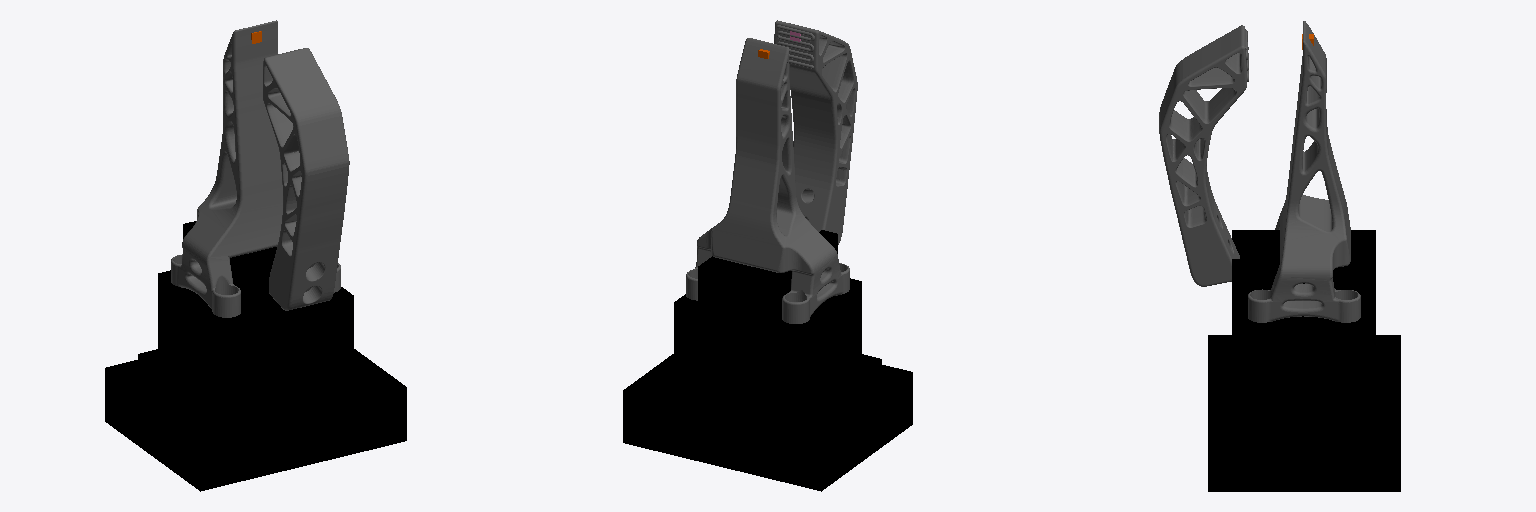
robot.urdf — iiwa14:
<?xml version="1.0" encoding="utf-8"?>
<!-- =================================================================================== -->
<!-- |    This document was autogenerated by xacro from src/iiwa_description/urdf/iiwa14.urdf.xacro | -->
<!-- |    EDITING THIS FILE BY HAND IS NOT RECOMMENDED                                 | -->
<!-- =================================================================================== -->
<robot name="iiwa14">
  <material name="Black">
    <color rgba="0.0 0.0 0.0 1.0"/>
  </material>
  <material name="Blue">
    <color rgba="0.0 0.0 0.8 1.0"/>
  </material>
  <material name="Green">
    <color rgba="0.0 0.8 0.0 1.0"/>
  </material>
  <material name="Grey">
    <color rgba="0.4 0.4 0.4 1.0"/>
  </material>
  <material name="Orange">
    <color rgba="1.0 0.423529411765 0.0392156862745 1.0"/>
  </material>
  <material name="Brown">
    <color rgba="0.870588235294 0.811764705882 0.764705882353 1.0"/>
  </material>
  <material name="Red">
    <color rgba="0.8 0.0 0.0 1.0"/>
  </material>
  <material name="White">
    <color rgba="1.0 1.0 1.0 1.0"/>
  </material>
  <!-- Fix to world just for testing -->
  <link name="world"/>
  <!--joint between {parent} and link_0-->
  <joint name="world_iiwa_joint" type="fixed">
    <origin rpy="0 0 0" xyz="0 0 0"/>
    <parent link="world"/>
    <child link="iiwa_link_0"/>
  </joint>
  <link name="iiwa_link_0">
    <inertial>
      <origin rpy="0 0 0" xyz="-0.1 0 0.07"/>
      <mass value="5"/>
      <inertia ixx="0.05" ixy="0" ixz="0" iyy="0.06" iyz="0" izz="0.03"/>
    </inertial>
    <visual>
      <origin rpy="0 0 0" xyz="0 0 0"/>
      <geometry>
        <mesh filename="package://iiwa_description/meshes/iiwa14/visual/link_0.stl"/>
      </geometry>
      <material name="Grey"/>
    </visual>
    <collision>
      <origin rpy="0 0 0" xyz="0 0 0"/>
      <geometry>
        <mesh filename="package://iiwa_description/meshes/iiwa14/collision/link_0.stl"/>
      </geometry>
      <material name="Grey"/>
    </collision>
    <self_collision_checking>
      <origin rpy="0 0 0" xyz="0 0 0"/>
      <geometry>
        <capsule length="0.25" radius="0.15"/>
      </geometry>
    </self_collision_checking>
  </link>
  <!-- joint between link_0 and link_1 -->
  <joint name="iiwa_joint_1" type="revolute">
    <parent link="iiwa_link_0"/>
    <child link="iiwa_link_1"/>
    <origin rpy="0 0 0" xyz="0 0 0.1575"/>
    <axis xyz="0 0 1"/>
    <limit effort="300" lower="-2.96705972839" upper="2.96705972839" velocity="10"/>
    <safety_controller k_position="100" k_velocity="2" soft_lower_limit="-2.93215314335" soft_upper_limit="2.93215314335"/>
    <dynamics damping="0.5"/>
  </joint>
  <link name="iiwa_link_1">
    <inertial>
      <origin rpy="0 0 0" xyz="0 -0.03 0.12"/>
      <mass value="4"/>
      <inertia ixx="0.1" ixy="0" ixz="0" iyy="0.09" iyz="0" izz="0.02"/>
    </inertial>
    <visual>
      <origin rpy="0 0 0" xyz="0 0 0"/>
      <geometry>
        <mesh filename="package://iiwa_description/meshes/iiwa14/visual/link_1.stl"/>
      </geometry>
      <material name="Orange"/>
    </visual>
    <collision>
      <origin rpy="0 0 0" xyz="0 0 0"/>
      <geometry>
        <mesh filename="package://iiwa_description/meshes/iiwa14/collision/link_1.stl"/>
      </geometry>
      <material name="Orange"/>
    </collision>
  </link>
  <!-- joint between link_1 and link_2 -->
  <joint name="iiwa_joint_2" type="revolute">
    <parent link="iiwa_link_1"/>
    <child link="iiwa_link_2"/>
    <origin rpy="1.57079632679   0 3.14159265359" xyz="0 0 0.2025"/>
    <axis xyz="0 0 1"/>
    <limit effort="300" lower="-2.09439510239" upper="2.09439510239" velocity="10"/>
    <safety_controller k_position="100" k_velocity="2" soft_lower_limit="-2.05948851735" soft_upper_limit="2.05948851735"/>
    <dynamics damping="0.5"/>
  </joint>
  <link name="iiwa_link_2">
    <inertial>
      <origin rpy="0 0 0" xyz="0.0003 0.059 0.042"/>
      <mass value="4"/>
      <inertia ixx="0.05" ixy="0" ixz="0" iyy="0.018" iyz="0" izz="0.044"/>
    </inertial>
    <visual>
      <origin rpy="0 0 0" xyz="0 0 0"/>
      <geometry>
        <mesh filename="package://iiwa_description/meshes/iiwa14/visual/link_2.stl"/>
      </geometry>
      <material name="Orange"/>
    </visual>
    <collision>
      <origin rpy="0 0 0" xyz="0 0 0"/>
      <geometry>
        <mesh filename="package://iiwa_description/meshes/iiwa14/collision/link_2.stl"/>
      </geometry>
      <material name="Orange"/>
    </collision>
  </link>
  <!-- joint between link_2 and link_3 -->
  <joint name="iiwa_joint_3" type="revolute">
    <parent link="iiwa_link_2"/>
    <child link="iiwa_link_3"/>
    <origin rpy="1.57079632679 0 3.14159265359" xyz="0 0.2045 0"/>
    <axis xyz="0 0 1"/>
    <limit effort="300" lower="-2.96705972839" upper="2.96705972839" velocity="10"/>
    <safety_controller k_position="100" k_velocity="2" soft_lower_limit="-2.93215314335" soft_upper_limit="2.93215314335"/>
    <dynamics damping="0.5"/>
  </joint>
  <link name="iiwa_link_3">
    <inertial>
      <origin rpy="0 0 0" xyz="0 0.03 0.13"/>
      <mass value="3"/>
      <inertia ixx="0.08" ixy="0" ixz="0" iyy="0.075" iyz="0" izz="0.01"/>
    </inertial>
    <visual>
      <origin rpy="0 0 0" xyz="0 0 0"/>
      <geometry>
        <mesh filename="package://iiwa_description/meshes/iiwa14/visual/link_3.stl"/>
      </geometry>
      <material name="Orange"/>
    </visual>
    <collision>
      <origin rpy="0 0 0" xyz="0 0 0"/>
      <geometry>
        <mesh filename="package://iiwa_description/meshes/iiwa14/collision/link_3.stl"/>
      </geometry>
      <material name="Orange"/>
    </collision>
  </link>
  <!-- joint between link_3 and link_4 -->
  <joint name="iiwa_joint_4" type="revolute">
    <parent link="iiwa_link_3"/>
    <child link="iiwa_link_4"/>
    <origin rpy="1.57079632679 0 0" xyz="0 0 0.2155"/>
    <axis xyz="0 0 1"/>
    <limit effort="300" lower="-2.09439510239" upper="2.09439510239" velocity="10"/>
    <safety_controller k_position="100" k_velocity="2" soft_lower_limit="-2.05948851735" soft_upper_limit="2.05948851735"/>
    <dynamics damping="0.5"/>
  </joint>
  <link name="iiwa_link_4">
    <inertial>
      <origin rpy="0 0 0" xyz="0 0.067 0.034"/>
      <mass value="2.7"/>
      <inertia ixx="0.03" ixy="0" ixz="0" iyy="0.01" iyz="0" izz="0.029"/>
    </inertial>
    <visual>
      <origin rpy="0 0 0" xyz="0 0 0"/>
      <geometry>
        <mesh filename="package://iiwa_description/meshes/iiwa14/visual/link_4.stl"/>
      </geometry>
      <material name="Orange"/>
    </visual>
    <collision>
      <origin rpy="0 0 0" xyz="0 0 0"/>
      <geometry>
        <mesh filename="package://iiwa_description/meshes/iiwa14/collision/link_4.stl"/>
      </geometry>
      <material name="Orange"/>
    </collision>
  </link>
  <!-- joint between link_4 and link_5 -->
  <joint name="iiwa_joint_5" type="revolute">
    <parent link="iiwa_link_4"/>
    <child link="iiwa_link_5"/>
    <origin rpy="-1.57079632679 3.14159265359 0" xyz="0 0.1845 0"/>
    <axis xyz="0 0 1"/>
    <limit effort="300" lower="-2.96705972839" upper="2.96705972839" velocity="10"/>
    <safety_controller k_position="100" k_velocity="2" soft_lower_limit="-2.93215314335" soft_upper_limit="2.93215314335"/>
    <dynamics damping="0.5"/>
  </joint>
  <link name="iiwa_link_5">
    <inertial>
      <origin rpy="0 0 0" xyz="0.0001 0.021 0.076"/>
      <mass value="1.7"/>
      <inertia ixx="0.02" ixy="0" ixz="0" iyy="0.018" iyz="0" izz="0.005"/>
    </inertial>
    <visual>
      <origin rpy="0 0 0" xyz="0 0 0"/>
      <geometry>
        <mesh filename="package://iiwa_description/meshes/iiwa14/visual/link_5.stl"/>
      </geometry>
      <material name="Orange"/>
    </visual>
    <collision>
      <origin rpy="0 0 0" xyz="0 0 0"/>
      <geometry>
        <mesh filename="package://iiwa_description/meshes/iiwa14/collision/link_5.stl"/>
      </geometry>
      <material name="Orange"/>
    </collision>
  </link>
  <!-- joint between link_5 and link_6 -->
  <joint name="iiwa_joint_6" type="revolute">
    <parent link="iiwa_link_5"/>
    <child link="iiwa_link_6"/>
    <origin rpy="1.57079632679 0 0" xyz="0 0 0.2155"/>
    <axis xyz="0 0 1"/>
    <limit effort="300" lower="-2.09439510239" upper="2.09439510239" velocity="10"/>
    <safety_controller k_position="100" k_velocity="2" soft_lower_limit="-2.05948851735" soft_upper_limit="2.05948851735"/>
    <dynamics damping="0.5"/>
  </joint>
  <link name="iiwa_link_6">
    <inertial>
      <origin rpy="0 0 0" xyz="0 0.0006 0.0004"/>
      <mass value="1.8"/>
      <inertia ixx="0.005" ixy="0" ixz="0" iyy="0.0036" iyz="0" izz="0.0047"/>
    </inertial>
    <visual>
      <origin rpy="0 0 0" xyz="0 0 0"/>
      <geometry>
        <mesh filename="package://iiwa_description/meshes/iiwa14/visual/link_6.stl"/>
      </geometry>
      <material name="Orange"/>
    </visual>
    <collision>
      <origin rpy="0 0 0" xyz="0 0 0"/>
      <geometry>
        <mesh filename="package://iiwa_description/meshes/iiwa14/collision/link_6.stl"/>
      </geometry>
      <material name="Orange"/>
    </collision>
  </link>
  <!-- joint between link_6 and link_7 -->
  <joint name="iiwa_joint_7" type="revolute">
    <parent link="iiwa_link_6"/>
    <child link="iiwa_link_7"/>
    <origin rpy="-1.57079632679 3.14159265359 0" xyz="0 0.081 0"/>
    <axis xyz="0 0 1"/>
    <limit effort="300" lower="-3.05432619099" upper="3.05432619099" velocity="10"/>
    <safety_controller k_position="100" k_velocity="2" soft_lower_limit="-3.01941960595" soft_upper_limit="3.01941960595"/>
    <dynamics damping="0.5"/>
  </joint>
  <link name="iiwa_link_7">
    <inertial>
      <origin rpy="0 0 0" xyz="0 0 0.02"/>
      <mass value="0.3"/>
      <inertia ixx="0.001" ixy="0" ixz="0" iyy="0.001" iyz="0" izz="0.001"/>
    </inertial>
    <visual>
      <origin rpy="0 0 0" xyz="0 0 0"/>
      <geometry>
        <mesh filename="package://iiwa_description/meshes/iiwa14/visual/link_7.stl"/>
      </geometry>
      <material name="Grey"/>
    </visual>
    <collision>
      <origin rpy="0 0 0" xyz="0 0 0"/>
      <geometry>
        <mesh filename="package://iiwa_description/meshes/iiwa14/collision/link_7.stl"/>
      </geometry>
      <material name="Grey"/>
    </collision>
  </link>
  <joint name="iiwa_joint_ee" type="fixed">
    <parent link="iiwa_link_7"/>
    <child link="iiwa_link_ee"/>
    <origin rpy="0 0 0" xyz="0 0 0.045"/>
  </joint>
  <link name="iiwa_link_ee">
    </link>
    
  <joint name="gripper_joint" type="fixed">
        <origin rpy="0 0 0" xyz="-0.05 -0.04 0"/>
        <parent link="iiwa_link_ee"/>
        <child link="gripper_link_0"/>
    </joint>
  
    <link name="gripper_link_0">
        <visual>
            <origin rpy="0 0 0" xyz="0 0 0"/>
            <geometry>
                <mesh filename="package://iiwa_description/meshes/custom_gripper_base.stl" scale="0.01 0.01 0.01"/>
            </geometry>
            <material name="Black"/>
        </visual>
        <collision>
            <origin rpy="0 0 0" xyz="0 0 0"/>
            <geometry>
                <mesh filename="package://iiwa_description/meshes/custom_gripper_base.stl" scale="0.01 0.01 0.01"/>
            </geometry>
            <material name="Black"/>
        </collision>
    </link>
  
    <link name="finger_link_0">
        <visual>
            <origin rpy="0 0 0" xyz="0 0 0"/>
            <geometry>
                <mesh filename="package://iiwa_description/meshes/custom_finger_fixed.stl" scale="0.01 0.01 0.01"/>
            </geometry>
            <material name="Grey"/>
        </visual>
        <collision>
            <origin rpy="0 0 0" xyz="0 0 0"/>
            <geometry>
                <mesh filename="package://iiwa_description/meshes/custom_finger_fixed.stl" scale="0.01 0.01 0.01"/>
            </geometry>
            <material name="Grey"/>
        </collision>
    </link>
    
    <link name="finger_link_1">
        <visual>
            <origin rpy="0 0 0" xyz="0 0 0"/>
            <geometry>
                <mesh filename="package://iiwa_description/meshes/custom_finger_free.stl" scale="0.01 0.01 0.01"/>
            </geometry>
            <material name="Grey"/>
        </visual>
        <collision>
            <origin rpy="0 0 0" xyz="0 0 0"/>
            <geometry>
                <mesh filename="package://iiwa_description/meshes/custom_finger_free.stl" scale="0.01 0.01 0.01"/>
            </geometry>
            <material name="Grey"/>
        </collision>
    </link>
    
    <joint name="finger_joint_fixed" type="fixed">
        <origin rpy="0 0 0" xyz="0 0 0"/>
        <parent link="gripper_link_0"/>
        <child link="finger_link_0"/>
    </joint>
    
    <joint name="finger_joint_revolute" type="revolute">
        <origin xyz="0.05 0.021 0.078" rpy="0 0 0" />
        <axis xyz="1 0 0"/>
        <parent link="gripper_link_0"/>
        <child link="finger_link_1"/>
        <limit lower="-6.283" upper="-5.8468" effort="100" velocity="2"/>
    </joint>

    <!-- magnetic sensor -->
    <link name="magnetic_link_0">
        <visual>
            <origin rpy="0 0 0" xyz="0 0 0"/>
            <geometry>
                <box size="0.005 0.005 0.005" />
            </geometry>
        </visual>
    </link>

    <link name="magnetic_link_1">
        <visual>
            <origin rpy="0 0 0" xyz="0 0 0"/>
            <geometry>
                <box size="0.005 0.005 0.005" />
            </geometry>
        </visual>
    </link>

    <joint name="magnetic_joint_0" type="fixed">
        <parent link="finger_link_0"/>
        <child link="magnetic_link_0"/>
        <origin rpy="0 0 0" xyz="0.05 0.0415 0.1825"/>
    </joint>

    <joint name="magnetic_joint_1" type="fixed">
        <parent link="finger_link_1"/>
        <child link="magnetic_link_1"/>
        <origin rpy="-0.175 0 0" xyz="0.00 0.0155 0.1025"/>
    </joint>

</robot>

--- What the picture shows (computed from the rendered views, not written in the file) ---
The picture shows the robot from 3 angles, left to right: view 1: azimuth 30°, elevation 25°; view 2: azimuth 150°, elevation 25°; view 3: azimuth 270°, elevation 25°; orthographic projection.
Model iiwa14 with 15 links and 14 joints (8 revolute, 6 fixed), rooted at world, posed joints at zero except 1 at the middle of their limits (finger_joint_revolute = -6.06).
Links seen in each view (by area): view 1: gripper_link_0, finger_link_0, finger_link_1; view 2: gripper_link_0, finger_link_0, finger_link_1; view 3: gripper_link_0, finger_link_0, finger_link_1.
Boxes of the visible links, x1,y1,x2,y2 form: gripper_link_0: (105,221,406,491); finger_link_0: (171,20,340,317); finger_link_1: (263,48,349,310); gripper_link_0: (623,230,912,491); finger_link_0: (686,38,849,323); finger_link_1: (774,20,857,244); gripper_link_0: (1208,230,1400,491); finger_link_0: (1248,21,1360,322); finger_link_1: (1159,25,1248,286).
Size in the robot's own frame: 0.1 by 0.1001 by 0.1878 metres.
Meshes: 11 distinct files referenced, 3 mesh visuals loaded (3 binary STL); not drawn: 8 (reference not matched to a file when rendering).